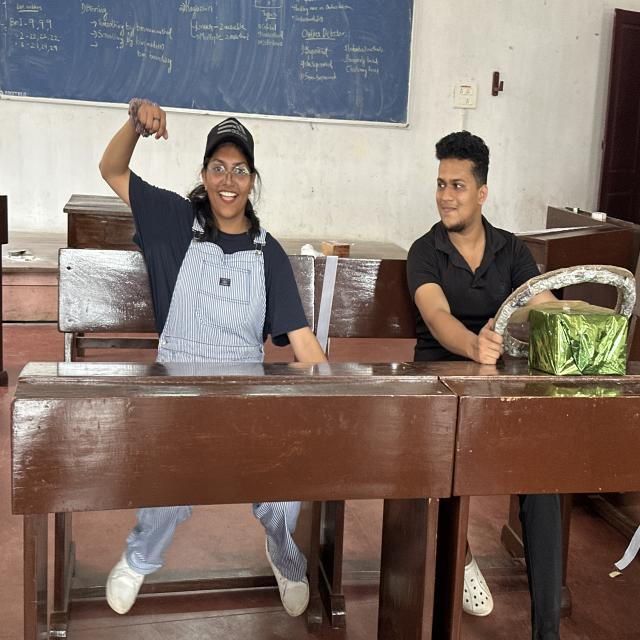no-seatbelt: (144, 214, 306, 357), (406, 215, 563, 354)
